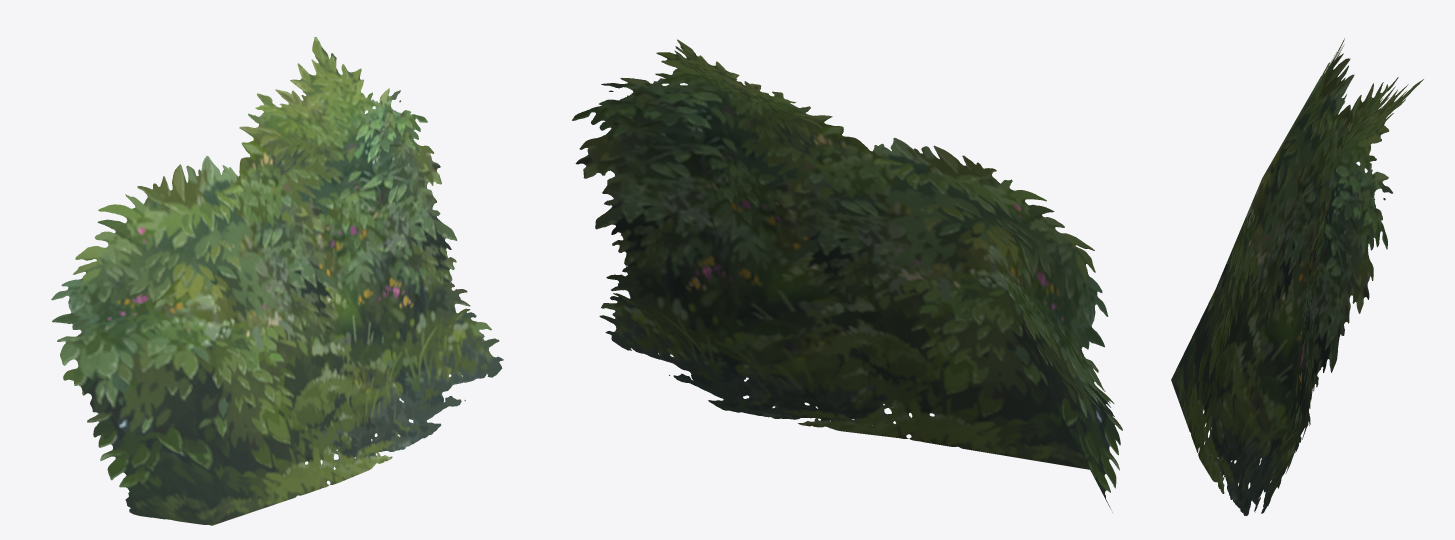
Rendered from Jiubajie_Grass07_fbx.FBX.
3 renders of one model, left to right at view 1: azimuth 30°, elevation 25°; view 2: azimuth 150°, elevation 25°; view 3: azimuth 270°, elevation 25°, orthographic. The views are drawn at different scales.
Parts seen in each view (by area): view 1: Jiubajie_Grass07_fbx; view 2: Jiubajie_Grass07_fbx; view 3: Jiubajie_Grass07_fbx.
Boxes of the visible parts, <box> form: Jiubajie_Grass07_fbx: <box>51,37,503,525</box>; Jiubajie_Grass07_fbx: <box>572,39,1122,512</box>; Jiubajie_Grass07_fbx: <box>1171,38,1423,515</box>.
Bounding box in the file's own units: 2.14 × 1.57 × 0.8845.
